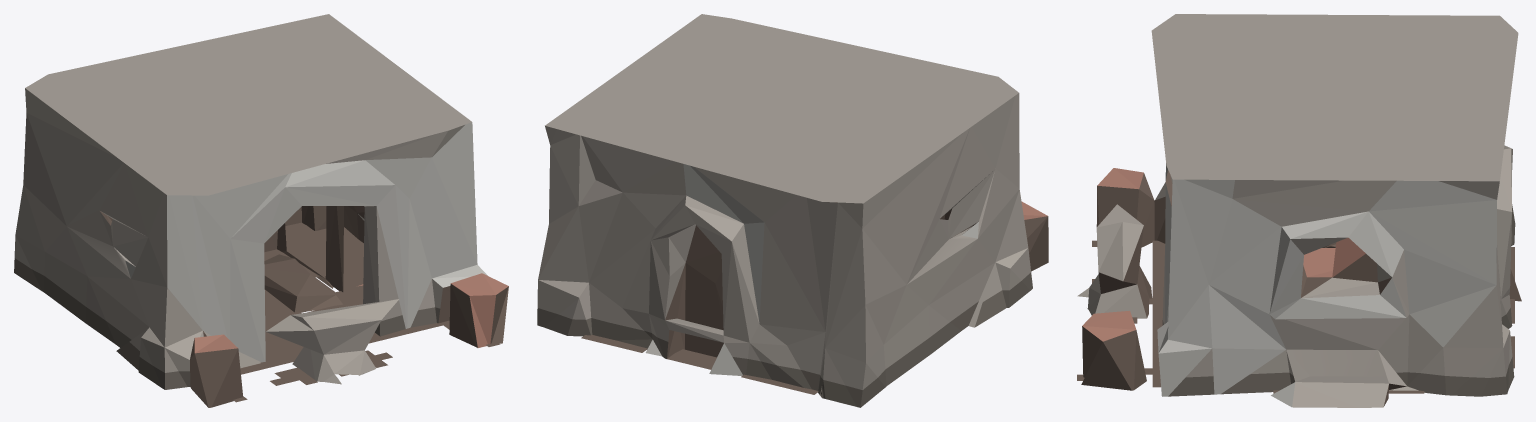
The model's file is etape-1.glb.
3 views of the same model, side by side, from view 1: azimuth 30°, elevation 25°; view 2: azimuth 150°, elevation 25°; view 3: azimuth 270°, elevation 25° (orthographic). The views are drawn at different scales.
Visible parts, largest first — view 1: geometry_0; view 2: geometry_0; view 3: geometry_0.
Boxes of the visible parts, box(x1,y1,x2,y2) form: geometry_0: box(14, 14, 508, 407); geometry_0: box(537, 14, 1048, 407); geometry_0: box(1077, 14, 1521, 407).
Size of the model in its own units: 0.7499 by 0.3918 by 0.7491.
